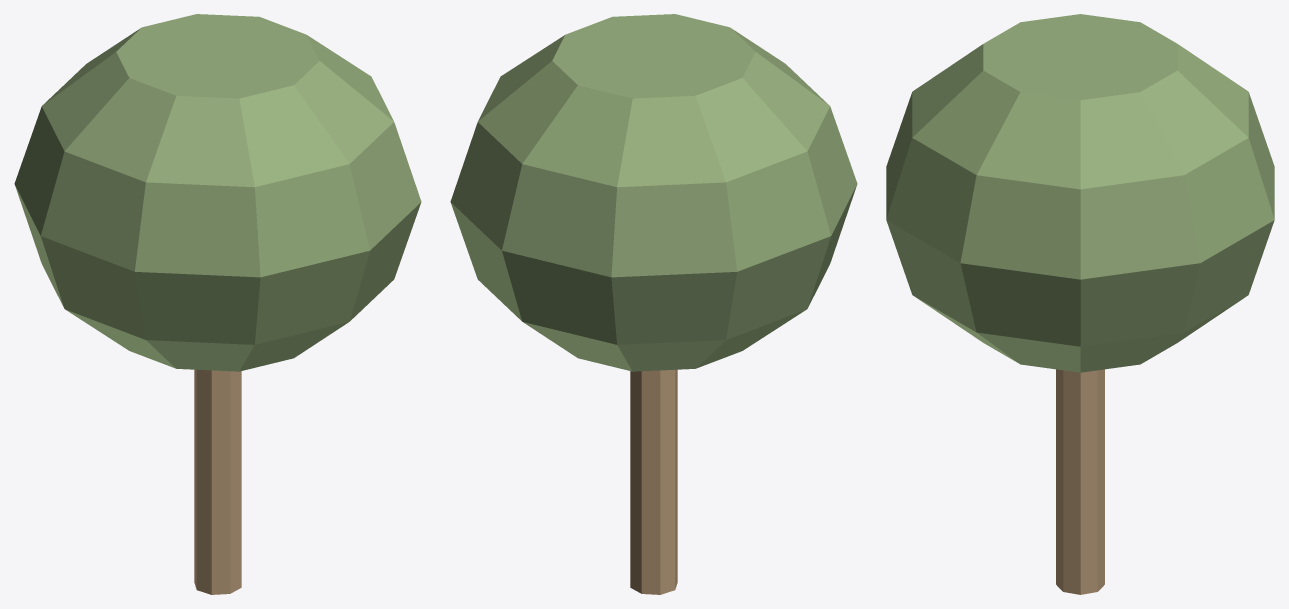
File: oak-arch-5.glb
3 views of the same model, side by side, from view 1: azimuth 30°, elevation 25°; view 2: azimuth 150°, elevation 25°; view 3: azimuth 270°, elevation 25° (orthographic).
Visible parts, largest first — view 1: living roof, timber; view 2: living roof, timber; view 3: living roof, timber.
Boxes of the visible parts, box(x1,y1,x2,y2) form: living roof: box(14, 14, 421, 371); timber: box(194, 369, 241, 594); living roof: box(450, 14, 857, 371); timber: box(630, 369, 677, 594); living roof: box(886, 14, 1274, 372); timber: box(1056, 369, 1104, 594).
Size of the model in its own units: 5.78 by 8.57 by 5.5.
